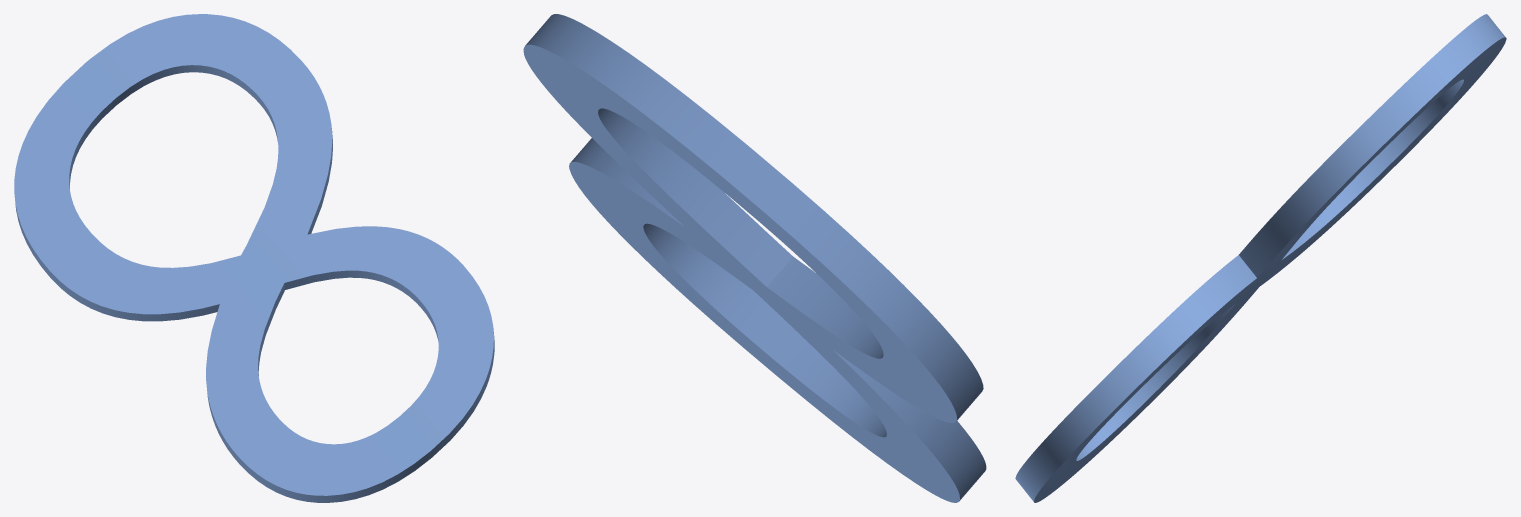
The model's file is New_Number_8.gltf.
3 renders of one model, left to right at view 1: azimuth 30°, elevation 25°; view 2: azimuth 150°, elevation 25°; view 3: azimuth 270°, elevation 25°, orthographic. The views are drawn at different scales.
Parts seen in each view (by area): view 1: Part 404; view 2: Part 404; view 3: Part 404.
Part boxes in pixels (x1,y1,x2,y2): Part 404: [14, 14, 494, 502]; Part 404: [523, 14, 986, 502]; Part 404: [1015, 14, 1506, 502].
Size of the model in its own units: 0.00431 by 0.0044 by 0.00422.
